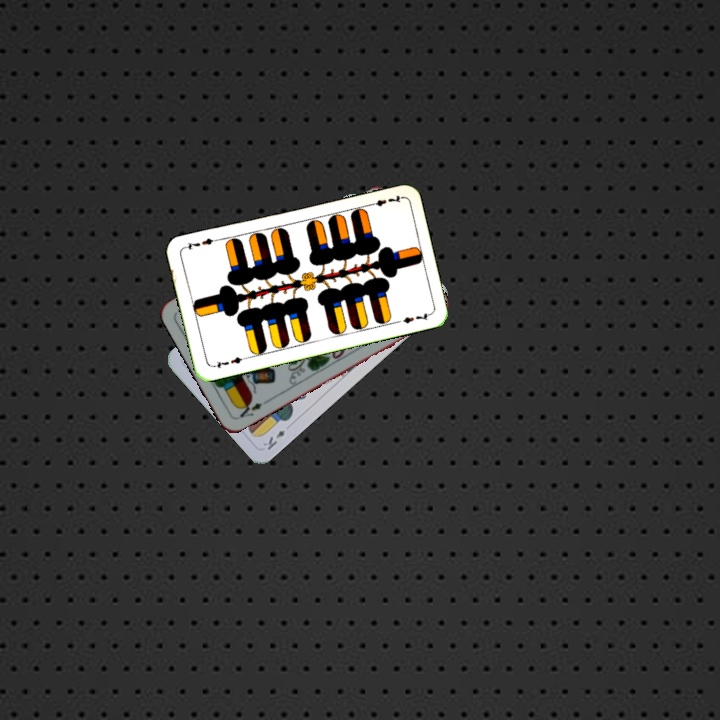E7: (208, 353, 248, 371), (364, 191, 404, 209)
EA: (234, 396, 271, 420)
EK: (259, 426, 287, 453)
